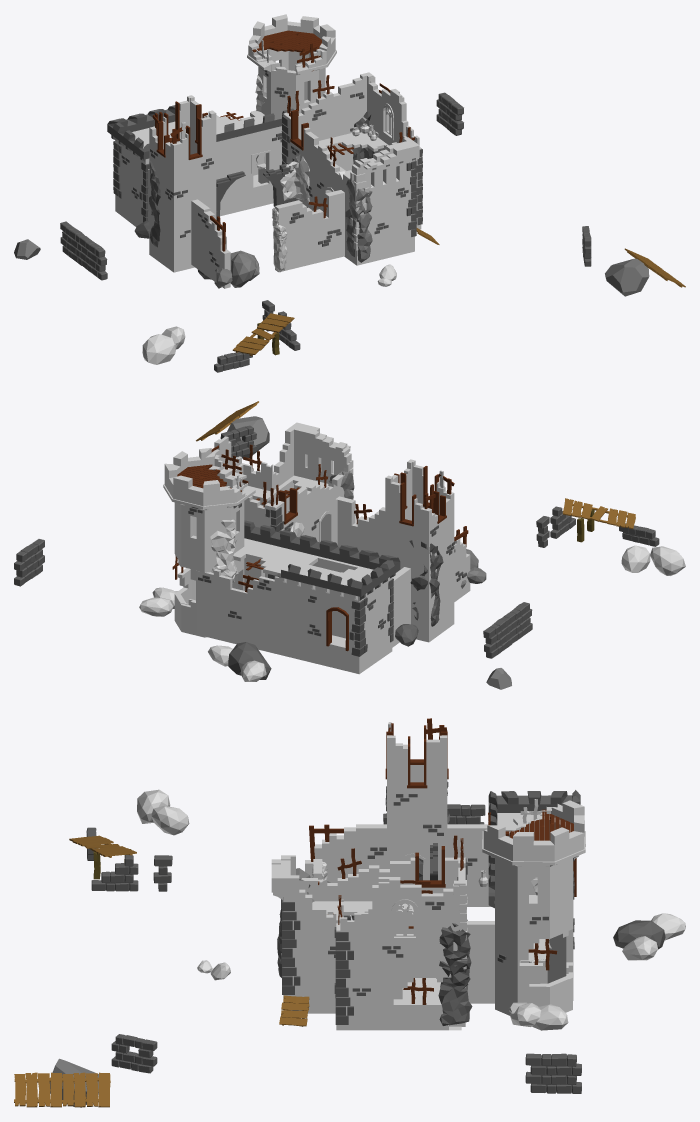
File: Ruins.fbx
The picture shows the model from 3 angles, top to bottom: view 1: azimuth 30°, elevation 25°; view 2: azimuth 150°, elevation 25°; view 3: azimuth 270°, elevation 25°; orthographic projection. The views are drawn at different scales.
Parts seen in each view (by area): view 1: structure_2, structure_3, structure_1, walls, Tower, battlement_1, bricks, Bricks_2, Rock_v2, roof_2, windows, wall_1 (+9 smaller); view 2: structure_1, Tower, structure_2, structure_3, battlement_1, walls, Bricks_2, Planks_Broken, windows, Bricks_1, moss.003_5, bricks (+15 smaller); view 3: structure_2, Tower, walls, structure_3, Planks_2, Bricks_1, battlement_1, moss.003_8, Bricks_Hole, moss.003_7, bricks, Bricks_Slope (+13 smaller).
Boxes of the visible parts, x1,y1,x2,y2 form: structure_2: (283,72,421,265); structure_3: (149,95,216,272); structure_1: (115,110,282,226); walls: (147,169,344,288); Tower: (247,14,336,183); battlement_1: (107,105,293,159); bricks: (121,67,408,267); Bricks_2: (60,221,107,280); Rock_v2: (605,258,649,296); roof_2: (252,30,321,57); windows: (156,101,207,159); wall_1: (216,158,297,219); structure_1: (196,538,392,674); Tower: (163,448,255,637); structure_2: (212,422,351,577); structure_3: (385,459,454,642); battlement_1: (244,520,400,596); walls: (336,496,470,647); Bricks_2: (483,602,532,658); Planks_Broken: (562,498,635,529); windows: (394,466,446,526); Bricks_1: (14,539,44,586); moss.003_5: (210,519,237,577); bricks: (188,503,466,636); structure_2: (271,855,465,1030); Tower: (482,800,585,1015); walls: (305,824,494,1003); structure_3: (387,735,447,880); Planks_2: (14,1072,110,1107); Bricks_1: (525,1053,581,1093); battlement_1: (488,790,580,908); moss.003_8: (436,923,471,986); Bricks_Hole: (111,1034,157,1073); moss.003_7: (438,965,472,1025); bricks: (312,786,574,997); Bricks_Slope: (91,855,138,891).
Size of the model in its own units: 2958 by 964 by 2852.
